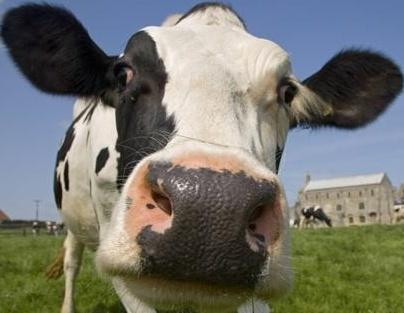muzzles: (91, 140, 299, 313)
